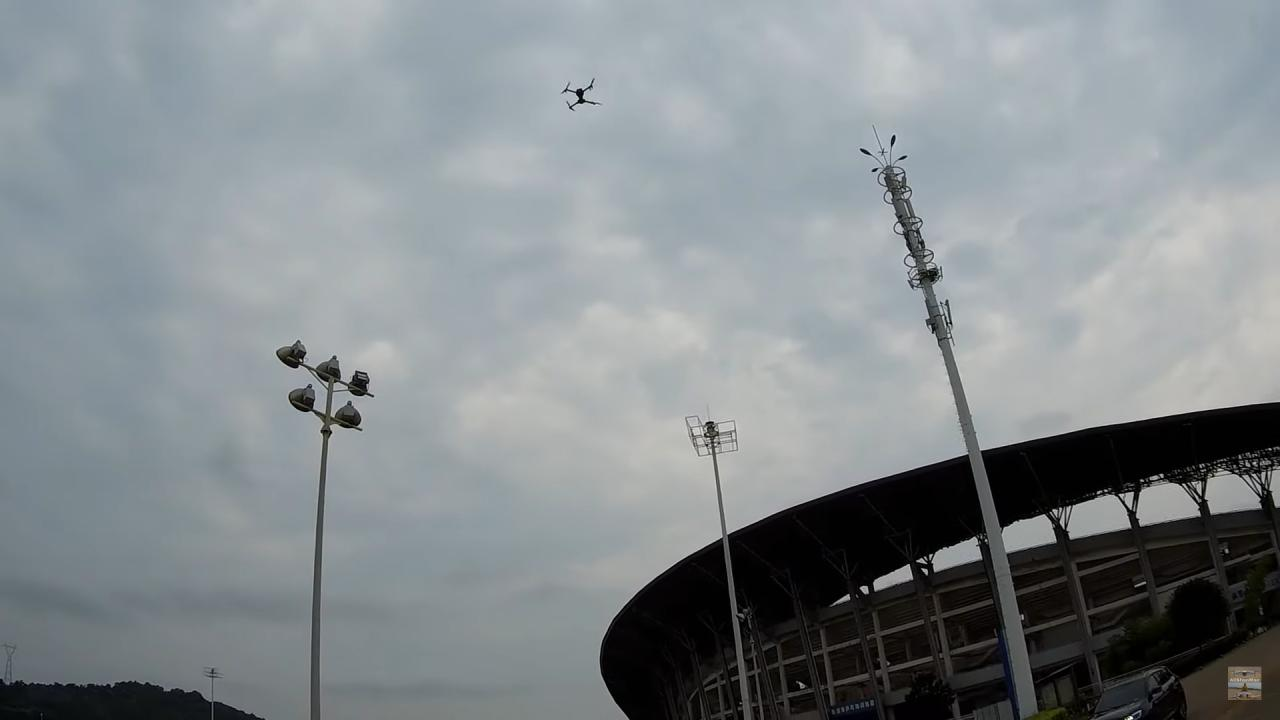Drone: (552, 74, 608, 118)
